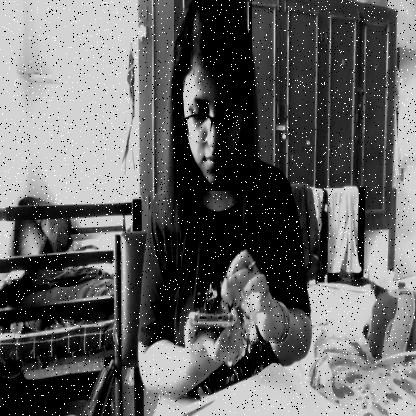Normal: (174, 0, 252, 191)
